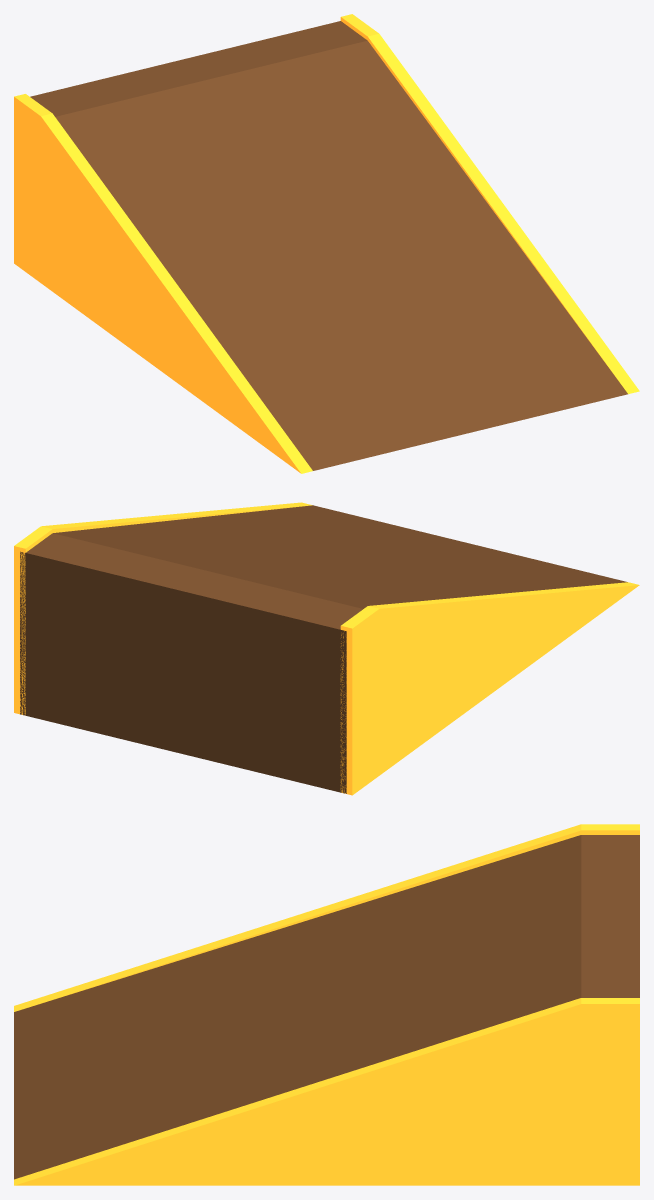
The model's file is prop_ramp.glb.
3 renders of one model, top to bottom at view 1: azimuth 30°, elevation 25°; view 2: azimuth 150°, elevation 25°; view 3: azimuth 270°, elevation 25°, orthographic. The views are drawn at different scales.
Visible parts, largest first — view 1: prop_ramp__mesh; view 2: prop_ramp__mesh; view 3: prop_ramp__mesh.
Boxes of the visible parts, x1,y1,x2,y2 form: prop_ramp__mesh: [14, 14, 639, 473]; prop_ramp__mesh: [14, 502, 639, 795]; prop_ramp__mesh: [14, 824, 639, 1185].
Bounding box in the file's own units: 4.35 × 2.05 × 6.4.
